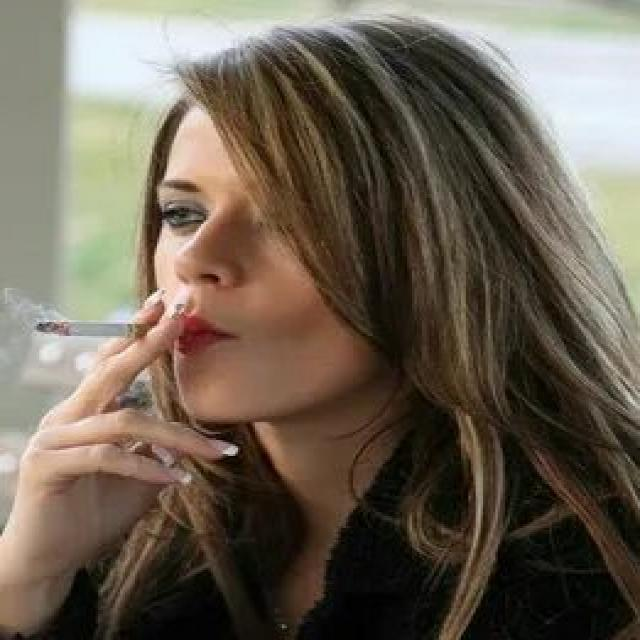cigarette: (32, 316, 172, 344)
